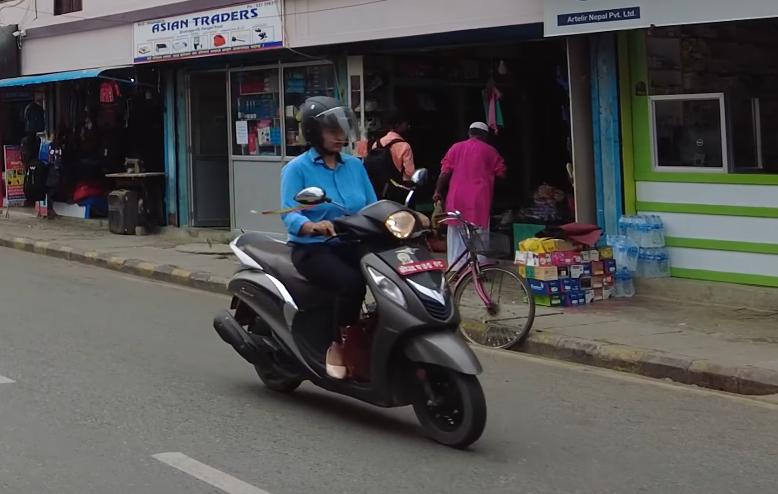scooter: (214, 170, 509, 454)
